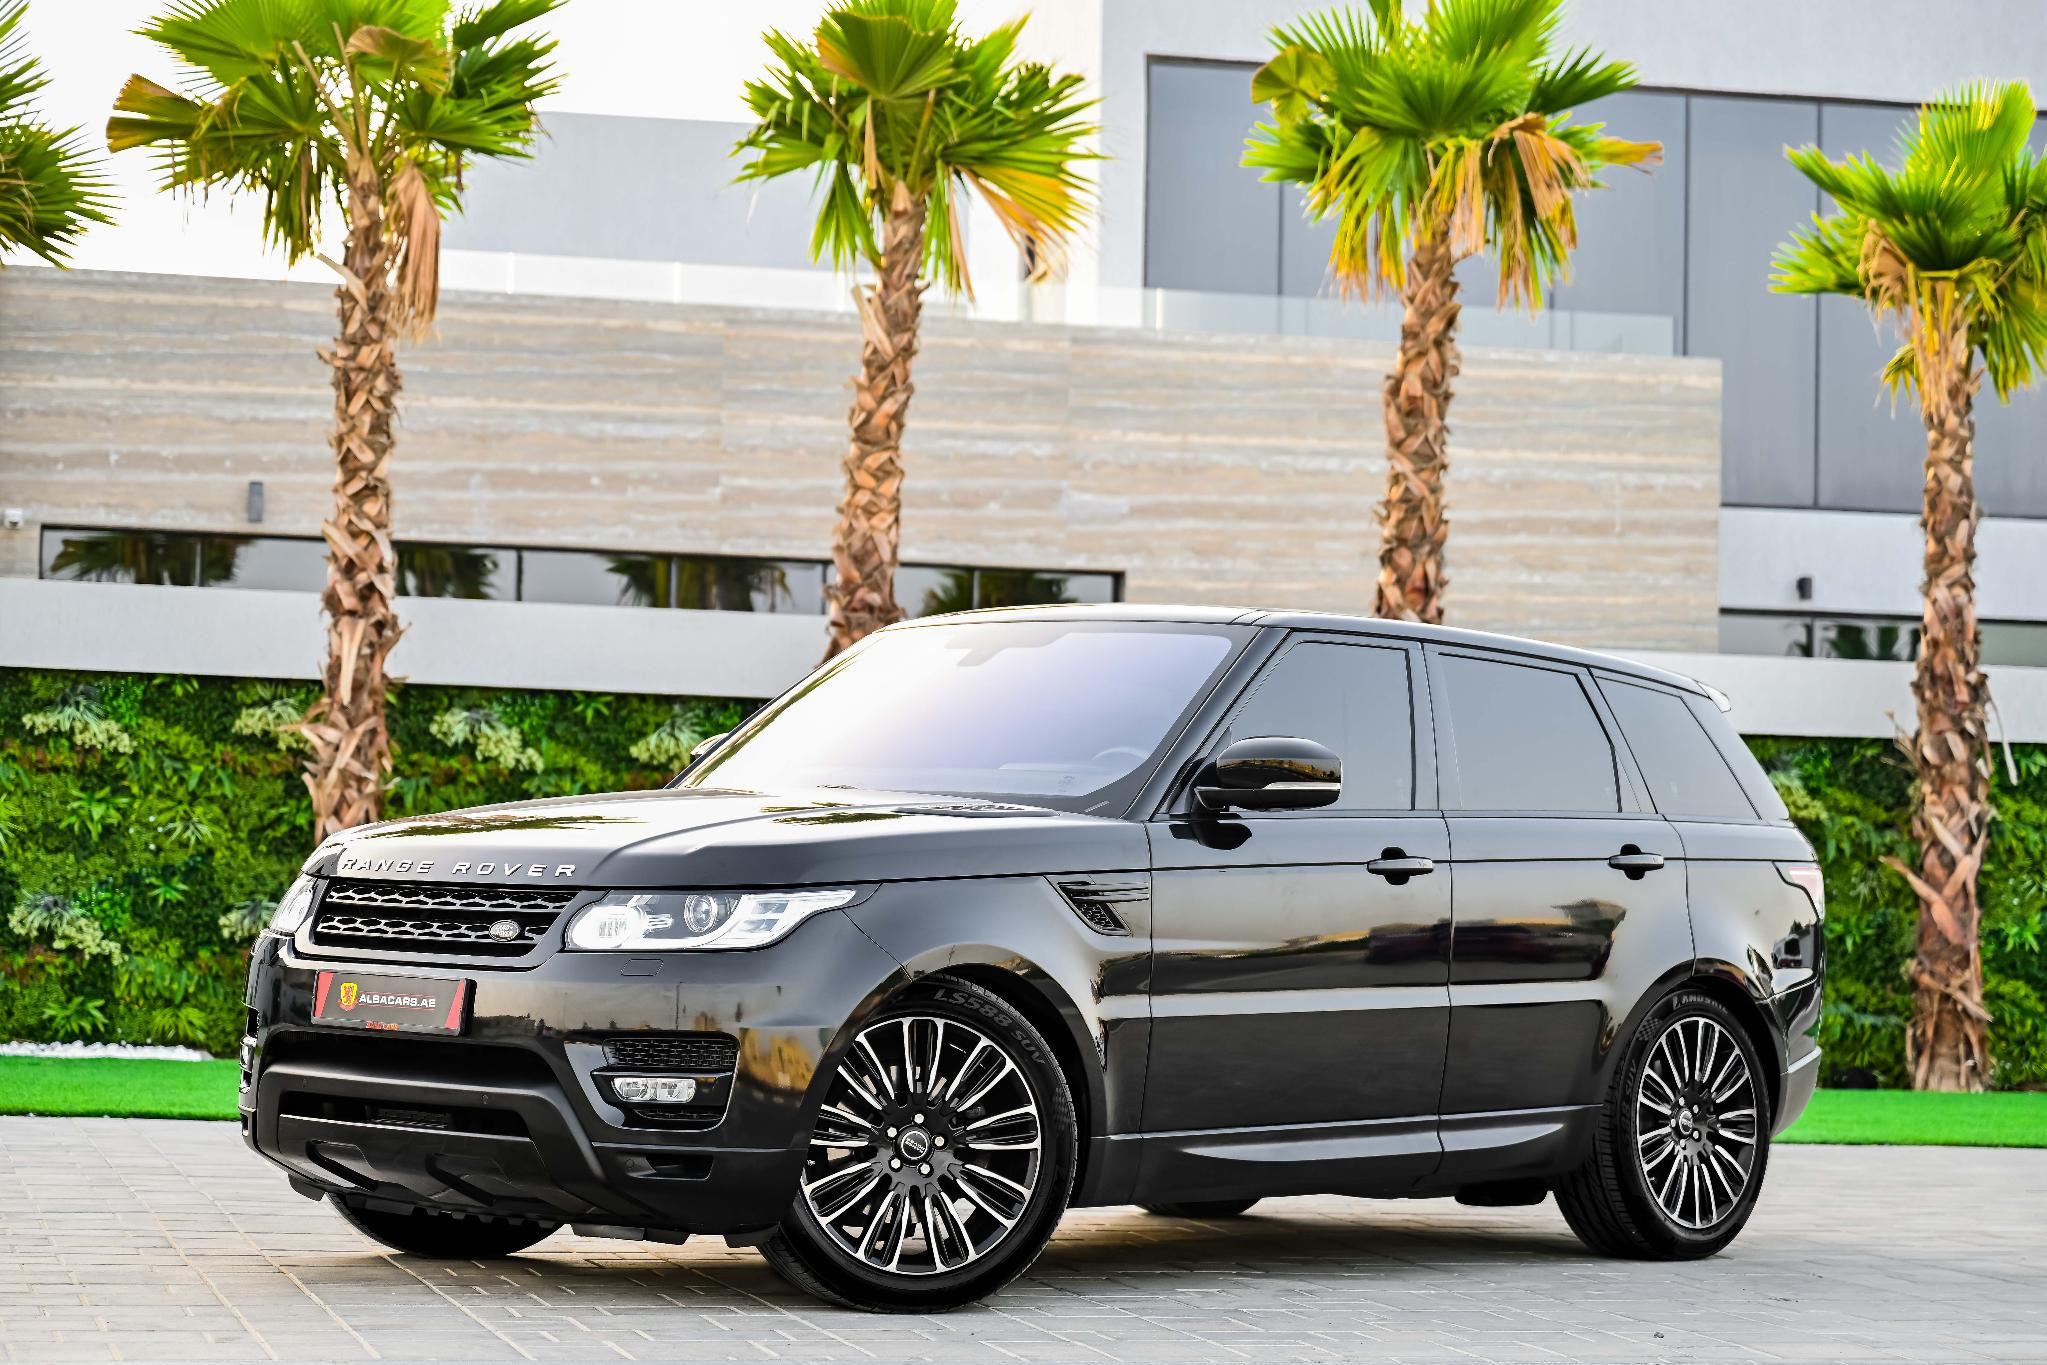range rover: (326, 841, 600, 891)
